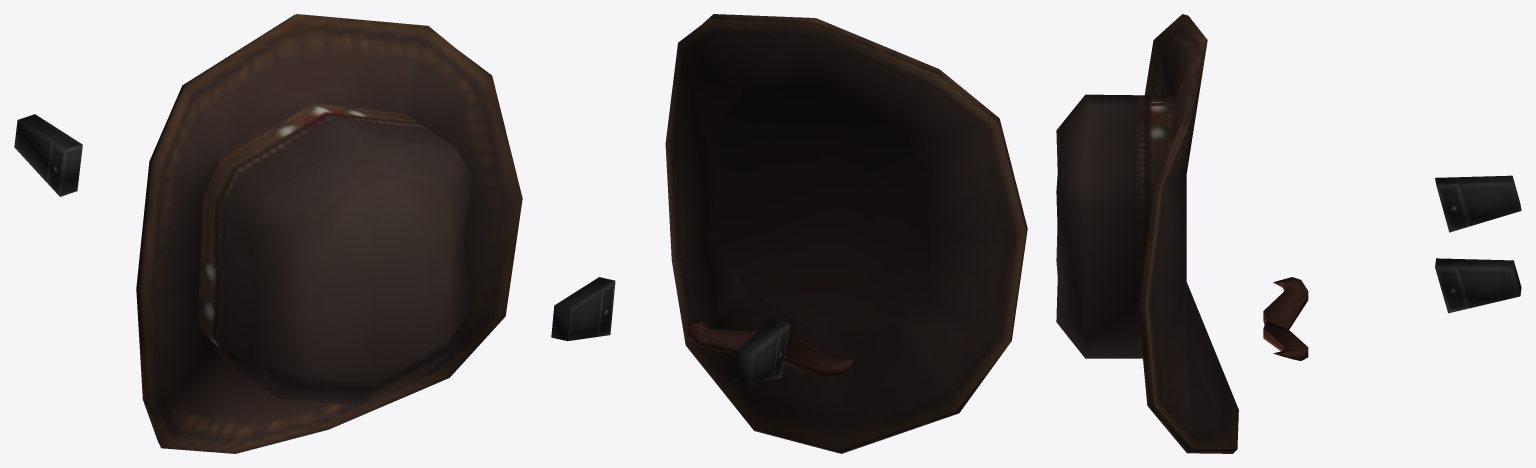
Rendered from cowboy_outfit.obj.
3 renders of one model, left to right at view 1: azimuth 30°, elevation 25°; view 2: azimuth 150°, elevation 25°; view 3: azimuth 270°, elevation 25°, orthographic. The views are drawn at different scales.
Bounding box in the file's own units: 1.27 × 1.39 × 1.48.
1 material, 1 textured.
